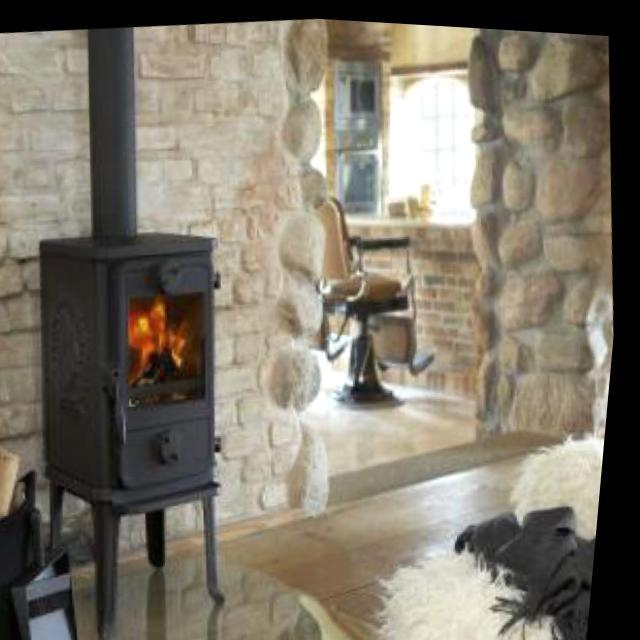fire: (134, 291, 200, 385)
